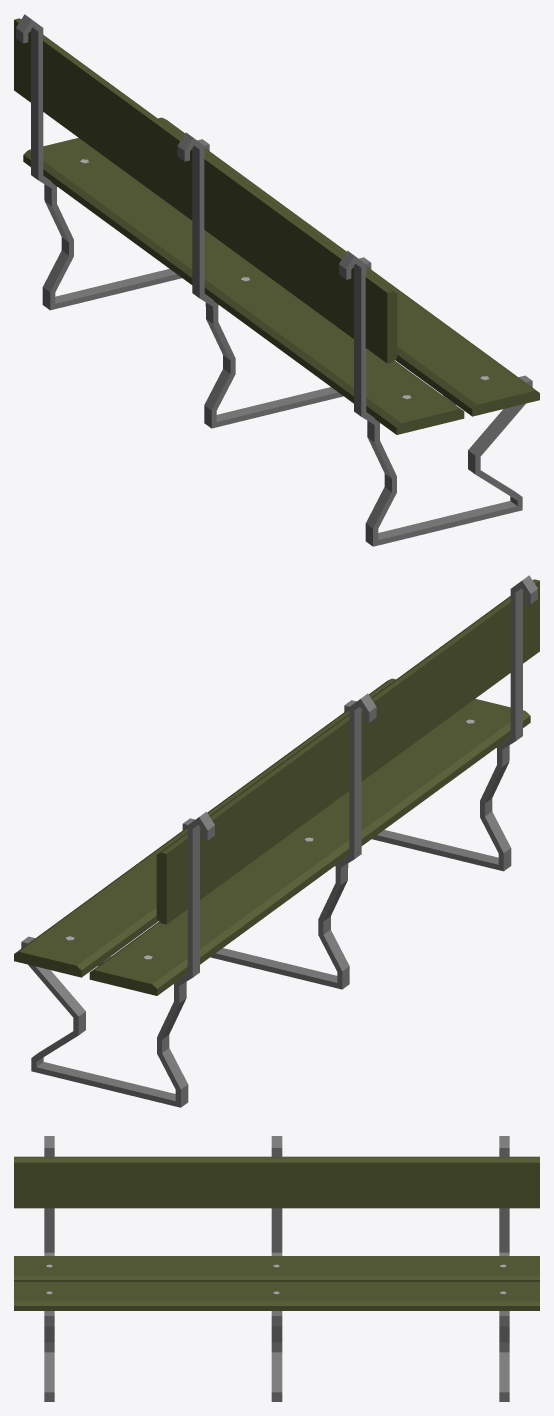
File: SM_bench.gltf
3 renders of one model, top to bottom at view 1: azimuth 30°, elevation 25°; view 2: azimuth 150°, elevation 25°; view 3: azimuth 270°, elevation 25°, orthographic. The views are drawn at different scales.
Visible parts, largest first — view 1: SM_bench; view 2: SM_bench; view 3: SM_bench.
Part boxes in pixels (<box>): SM_bench: <box>14,14,539,546</box>; SM_bench: <box>14,575,539,1107</box>; SM_bench: <box>14,1136,539,1401</box>.
Size of the model in its own units: 0.671 by 1.02 by 2.33.
Materials: 1 (1 with a texture image).
